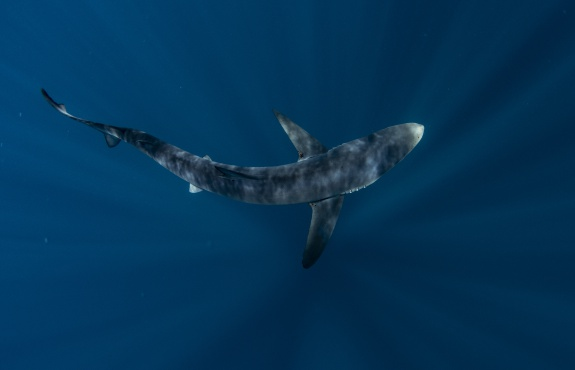Azul: (39, 78, 429, 279)
